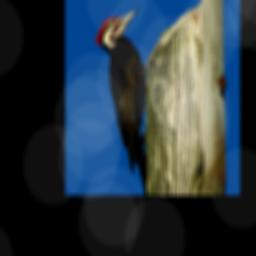Woodpecker: (92, 9, 158, 192)
